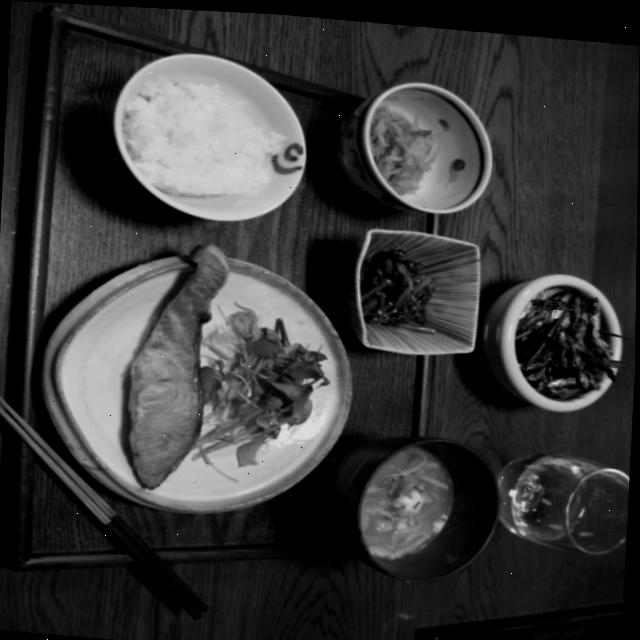熟制海鲜: (100, 206, 263, 502)
